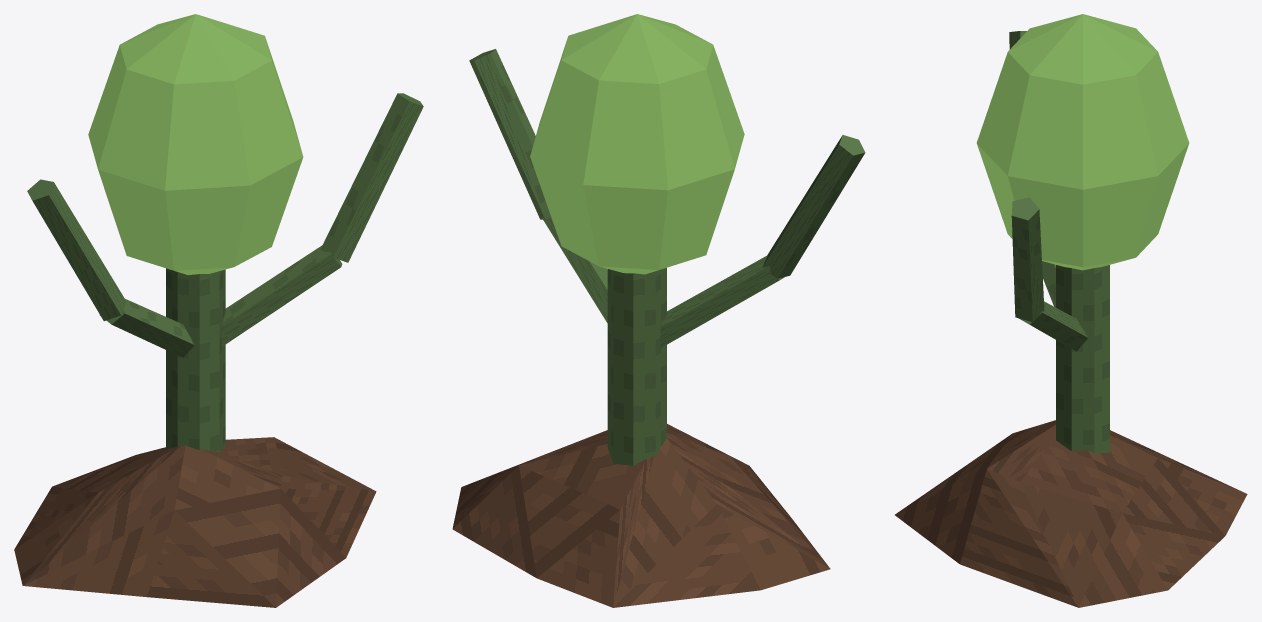
The model's file is f_glowingbulb.glb.
3 views of the same model, side by side, from view 1: azimuth 30°, elevation 25°; view 2: azimuth 150°, elevation 25°; view 3: azimuth 270°, elevation 25° (orthographic). The views are drawn at different scales.
Visible parts, largest first — view 1: block_root-hill, block_onion-shaped-green-bulb, block_leaf-shoot-2 (×2), block_bulb-stem, block_leaf-shoot-1 (×2); view 2: block_root-hill, block_onion-shaped-green-bulb, block_bulb-stem, block_leaf-shoot-2 (×2), block_leaf-shoot-1 (×2); view 3: block_root-hill, block_onion-shaped-green-bulb, block_bulb-stem, block_leaf-shoot-2, block_leaf-shoot-1.
Part boxes in pixels (bbox=[...]): block_root-hill: bbox=[14, 437, 376, 607]; block_onion-shaped-green-bulb: bbox=[88, 14, 303, 275]; block_leaf-shoot-2 (×2): bbox=[27, 93, 423, 320]; block_bulb-stem: bbox=[166, 268, 225, 452]; block_leaf-shoot-1 (×2): bbox=[100, 245, 342, 357]; block_root-hill: bbox=[452, 424, 830, 607]; block_onion-shaped-green-bulb: bbox=[530, 14, 744, 274]; block_bulb-stem: bbox=[607, 267, 666, 465]; block_leaf-shoot-2 (×2): bbox=[469, 49, 865, 278]; block_leaf-shoot-1 (×2): bbox=[542, 217, 784, 348]; block_root-hill: bbox=[895, 420, 1247, 607]; block_onion-shaped-green-bulb: bbox=[976, 14, 1189, 270]; block_bulb-stem: bbox=[1056, 265, 1109, 453]; block_leaf-shoot-2: bbox=[1011, 197, 1044, 322]; block_leaf-shoot-1: bbox=[1019, 301, 1087, 351].
Size of the model in its own units: 0.53 by 0.67 by 0.4216.
2 materials, 2 textured.
